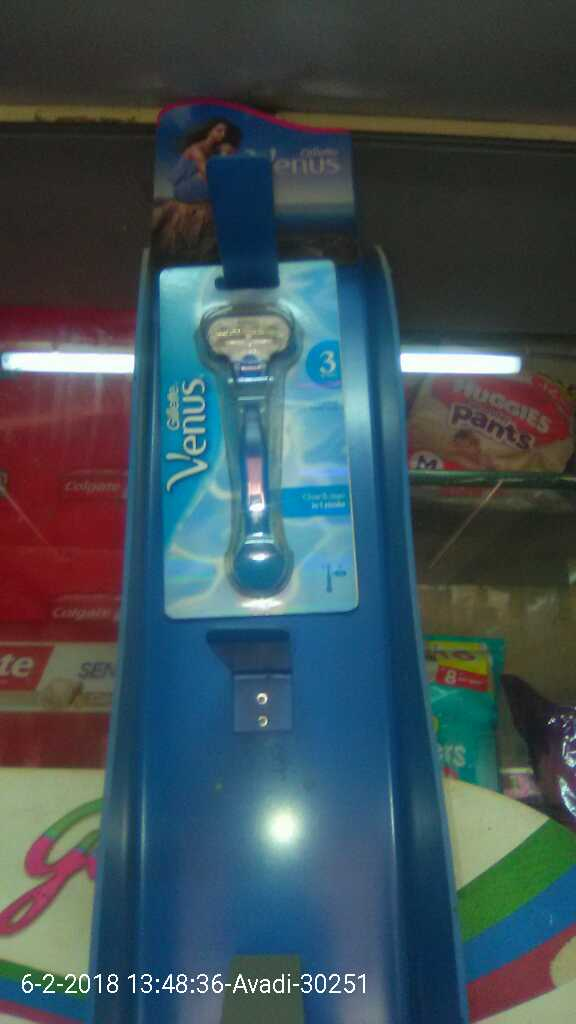venus: (151, 269, 374, 619)
